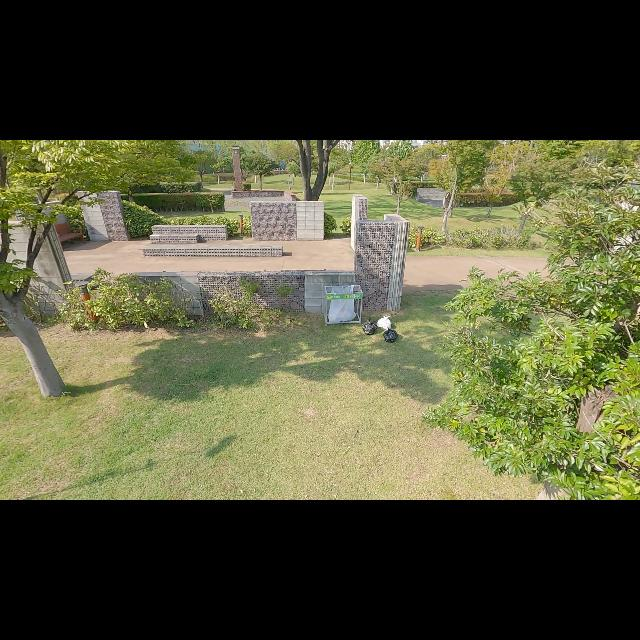trash: (384, 326, 398, 342), (376, 316, 392, 330), (362, 321, 378, 335), (362, 318, 376, 328)
